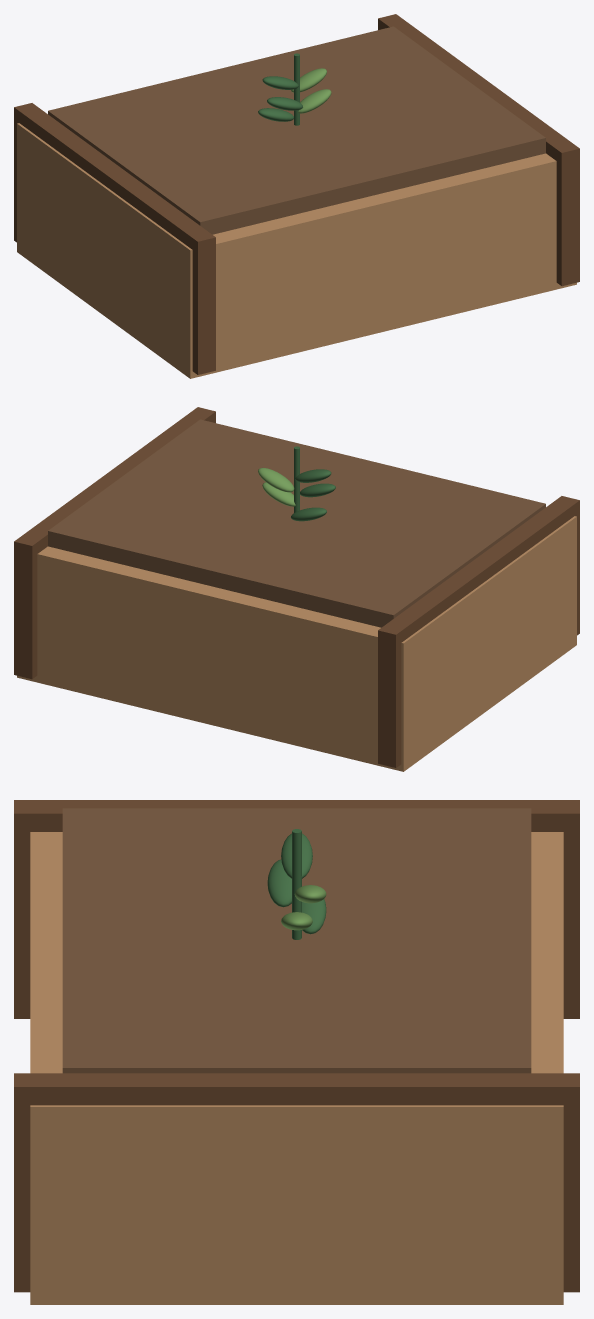
File: sprout.glb
The picture shows the model from 3 angles, top to bottom: view 1: azimuth 30°, elevation 25°; view 2: azimuth 150°, elevation 25°; view 3: azimuth 270°, elevation 25°; orthographic projection. The views are drawn at different scales.
Parts seen in each view (by area): view 1: wood box, soil box, trim box (×2); view 2: wood box, soil box, trim box (×2), lightLeaf sphere; view 3: wood box, soil box, trim box (×2), leaf sphere (×2), leaf cylinder.
Boxes of the visible parts, x1,y1,x2,y2 form: wood box: [17, 123, 576, 378]; soil box: [48, 26, 545, 234]; trim box (×2): [14, 14, 579, 374]; wood box: [17, 516, 576, 771]; soil box: [48, 419, 545, 627]; trim box (×2): [14, 407, 579, 767]; lightLeaf sphere: [258, 467, 294, 492]; wood box: [30, 832, 563, 1304]; soil box: [62, 808, 531, 1073]; trim box (×2): [14, 800, 579, 1292]; leaf sphere (×2): [267, 833, 312, 907]; leaf cylinder: [292, 829, 301, 939].
Size of the model in its own units: 0.85 by 0.4486 by 0.7.
